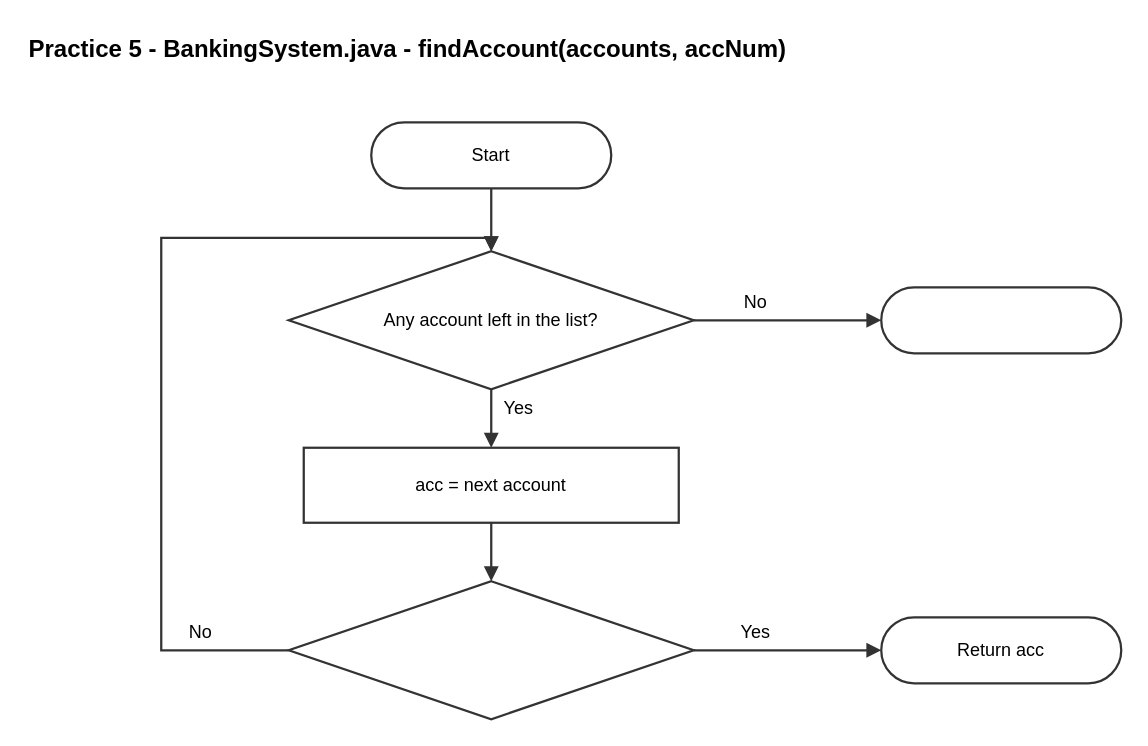
This 1148x746 diagram has some shape labels left out. Here are the shapes that lost their labels. From the top down, the centre of each, then its label:
At point (1000, 319): "Return null".
At point (490, 649): "acc.accNum equals accNum?".
